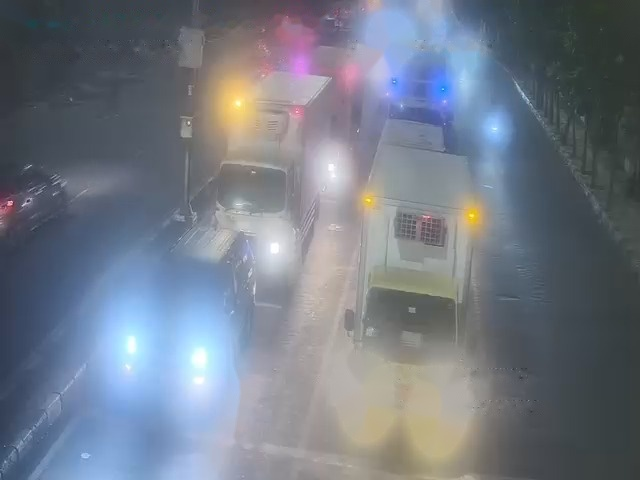Mobil: (119, 225, 250, 399), (0, 150, 65, 213)
Motor: (486, 116, 504, 143)
Truk: (361, 138, 478, 427), (219, 77, 323, 268), (386, 40, 457, 127)
